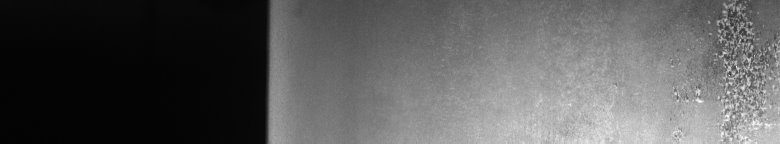hc: (674, 4, 776, 136)
